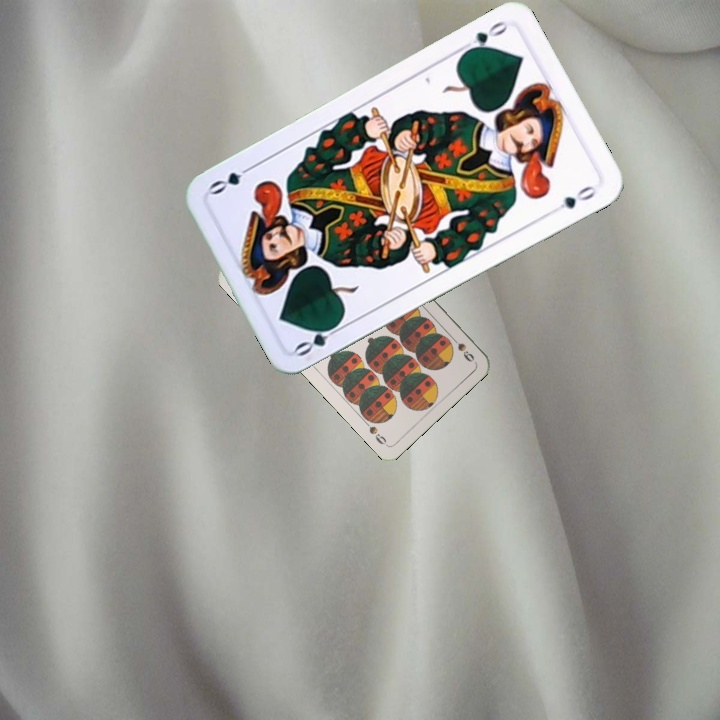GO: (291, 317, 347, 359), (457, 16, 511, 57)
S9: (446, 331, 477, 365)
